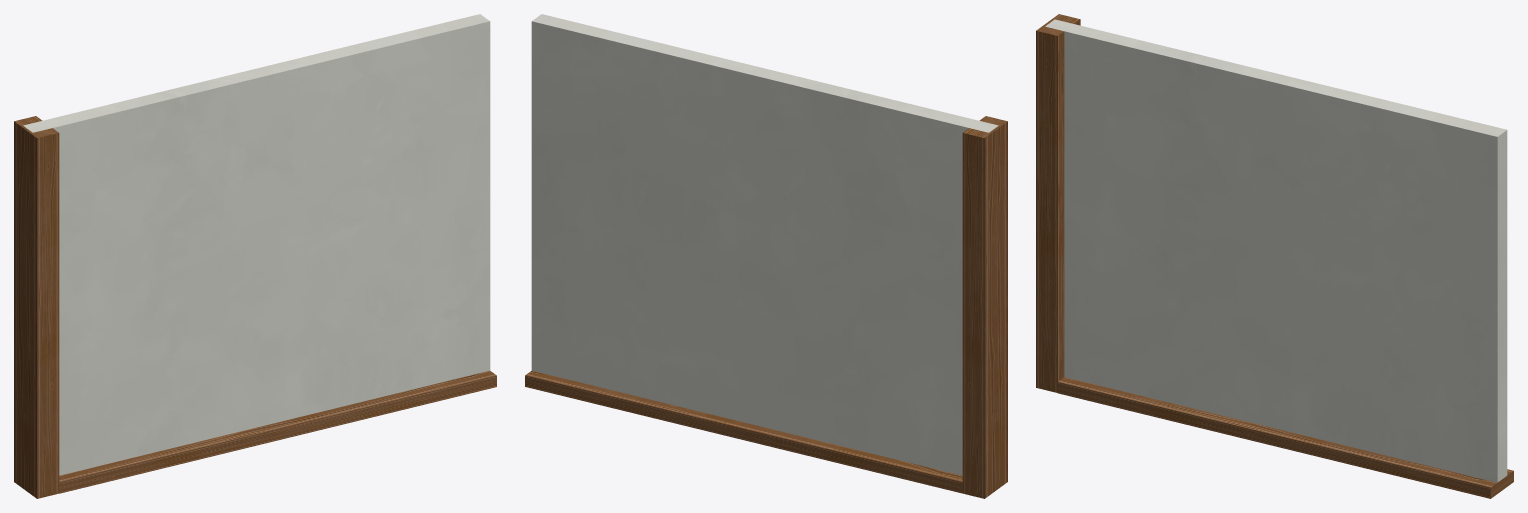
File: SM_Large_Wall_03_wstone.glb
3 views of the same model, side by side, from view 1: azimuth 30°, elevation 25°; view 2: azimuth 150°, elevation 25°; view 3: azimuth 330°, elevation 25° (orthographic).
Visible parts, largest first — view 1: SM_Large_Wall_03; view 2: SM_Large_Wall_03; view 3: SM_Large_Wall_03.
Boxes of the visible parts, left/top/right/bottom form: SM_Large_Wall_03: left=14, top=14, right=496, bottom=498; SM_Large_Wall_03: left=525, top=14, right=1007, bottom=498; SM_Large_Wall_03: left=1036, top=14, right=1513, bottom=498.
Size of the model in its own units: 4 by 3 by 0.3524.
Materials: 2 (2 with a texture image).
